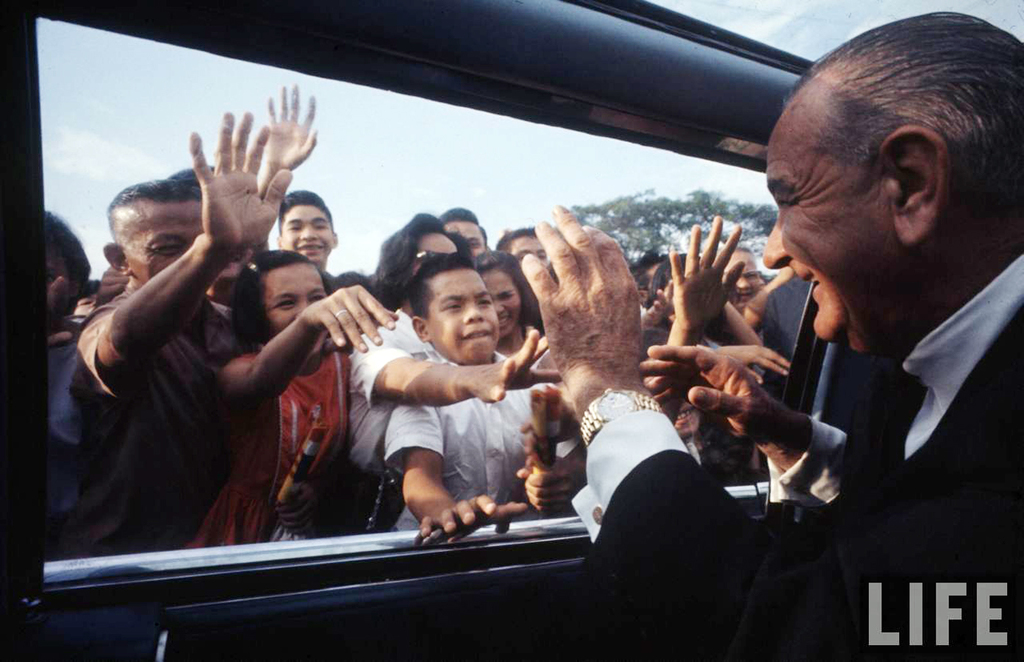Human_hand: (163, 101, 305, 273), (518, 204, 643, 398), (637, 341, 778, 439), (670, 213, 745, 331), (464, 328, 562, 406), (298, 281, 401, 353), (415, 491, 531, 541), (266, 81, 321, 171), (518, 396, 575, 473), (715, 341, 795, 389), (515, 456, 572, 514), (272, 481, 322, 538), (45, 277, 76, 346), (96, 265, 136, 307), (647, 281, 676, 327)
